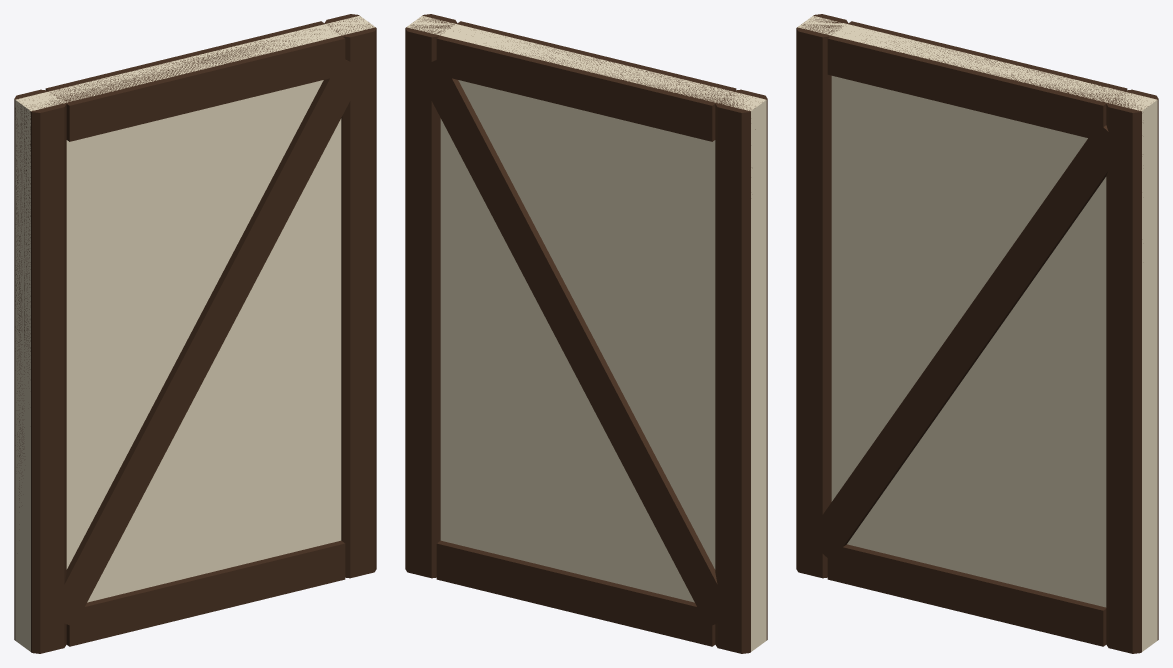
The model's file is wall_plaster_lod0.glb.
3 renders of one model, left to right at view 1: azimuth 30°, elevation 25°; view 2: azimuth 150°, elevation 25°; view 3: azimuth 330°, elevation 25°, orthographic.
Visible parts, largest first — view 1: wall_plaster; view 2: wall_plaster; view 3: wall_plaster.
Boxes of the visible parts, left/top/right/bottom form: wall_plaster: left=14, top=14, right=376, bottom=653; wall_plaster: left=405, top=14, right=767, bottom=653; wall_plaster: left=796, top=14, right=1158, bottom=653.
Size of the model in its own units: 2 by 3 by 0.24.
